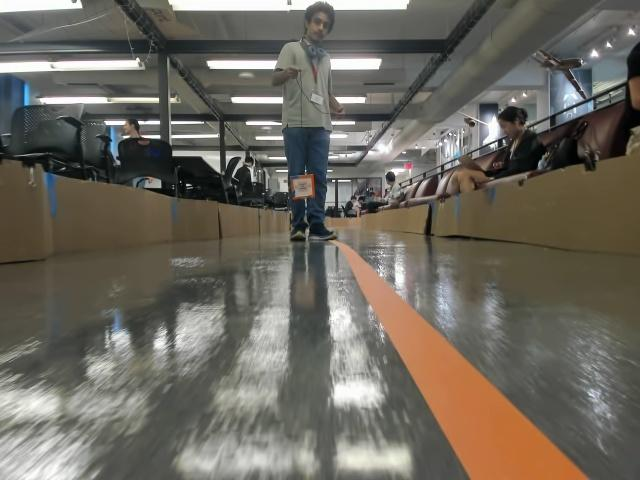Do Not Go Around: (294, 181, 311, 192)
